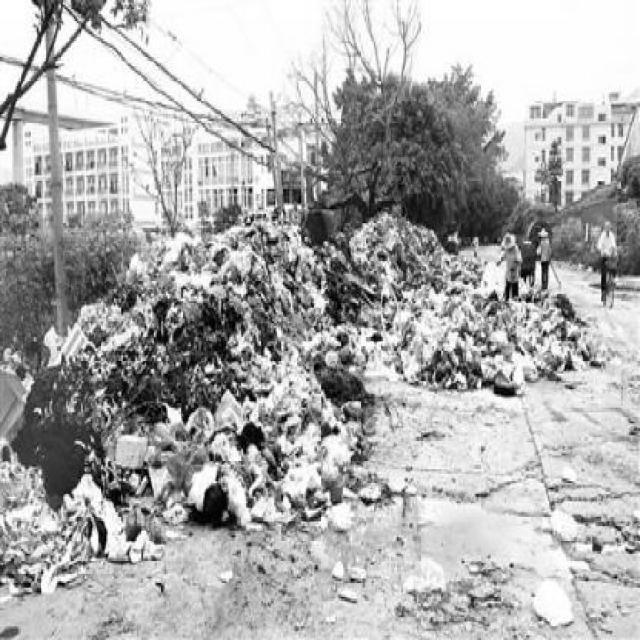garbage: (2, 211, 490, 538)
